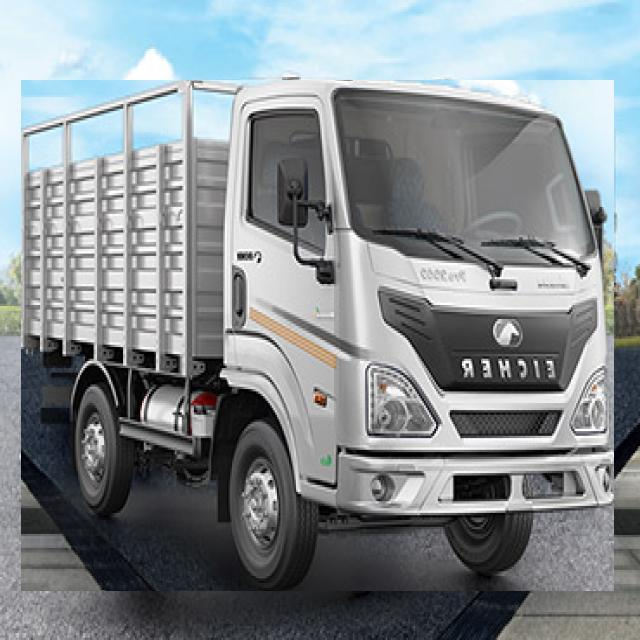truck: (21, 81, 614, 591)
